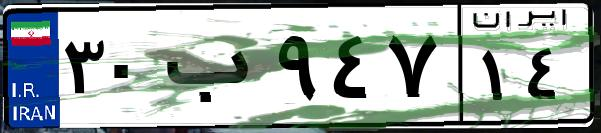0: (110, 28, 158, 98)
1: (475, 38, 525, 113)
3: (57, 26, 110, 100)
4: (330, 28, 385, 110), (525, 38, 570, 115)
7: (385, 28, 445, 110)
9: (270, 28, 330, 110)
ب: (158, 20, 270, 120)
